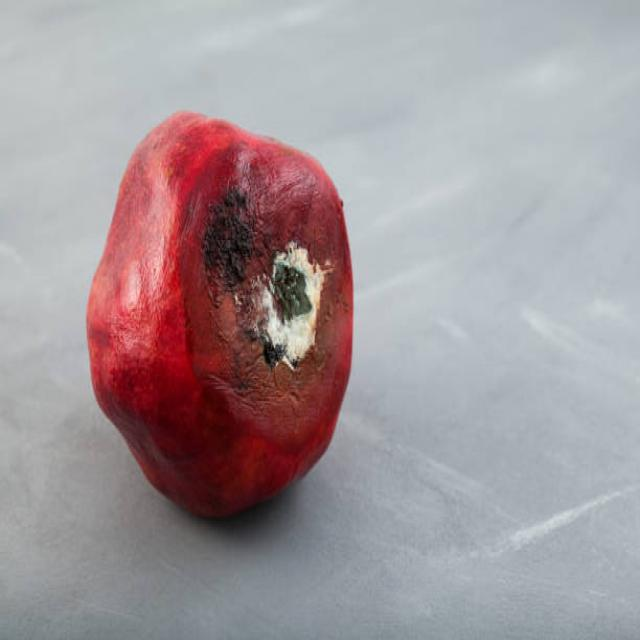Rotten: (85, 109, 354, 525)
